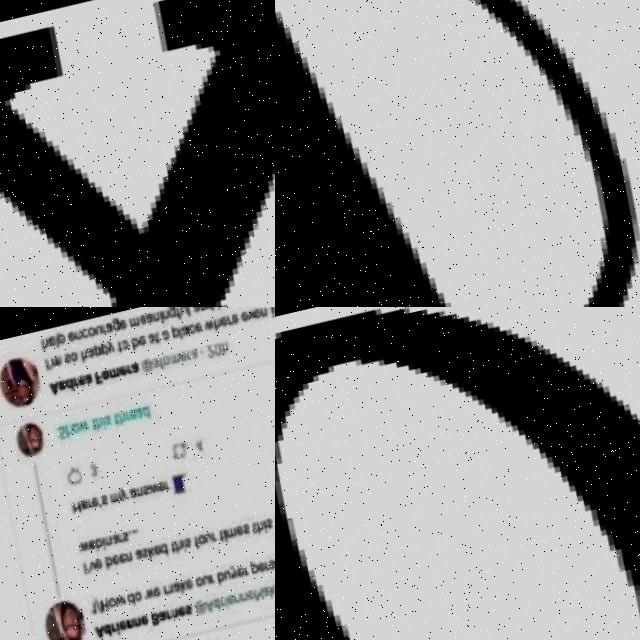0: (275, 0, 640, 307), (213, 343, 223, 358)
1: (92, 602, 101, 615)
2: (207, 345, 216, 359)
3: (90, 465, 100, 478)
4: (196, 440, 205, 453)
O: (275, 307, 640, 640)
X: (0, 0, 275, 307)
